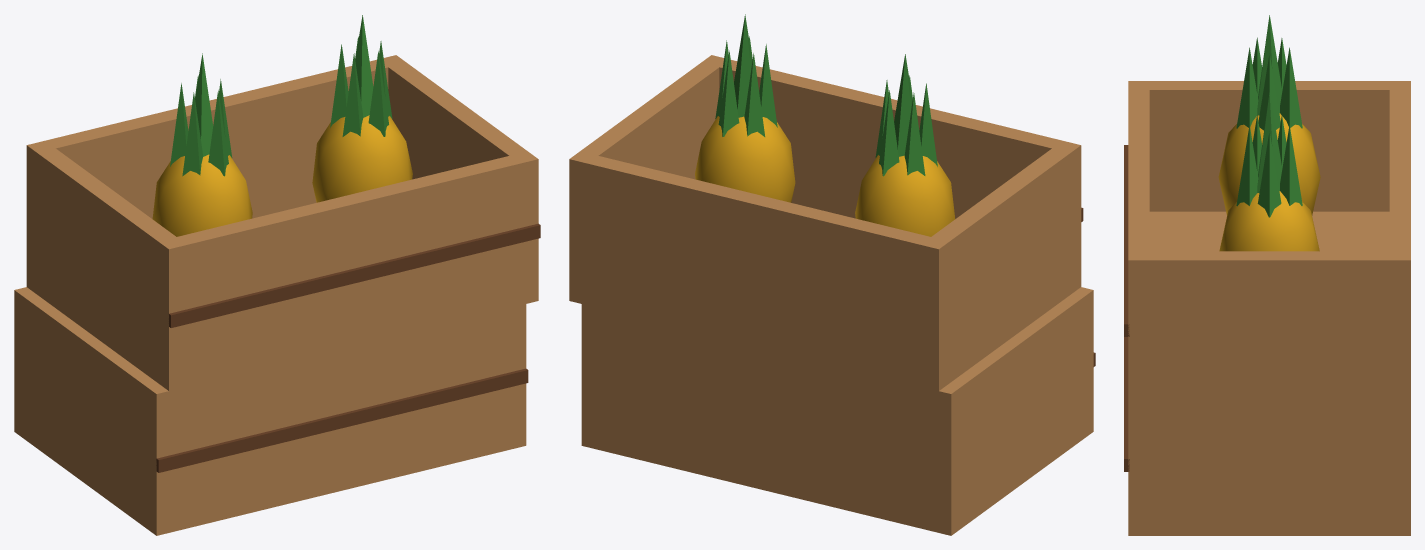
The model's file is decoracion-pila-cajas-pinas.glb.
3 views of the same model, side by side, from view 1: azimuth 30°, elevation 25°; view 2: azimuth 150°, elevation 25°; view 3: azimuth 270°, elevation 25° (orthographic).
Parts seen in each view (by area): view 1: pila_cajas_pinas_MaderaCajon, pila_cajas_pinas_FrutaPina, pila_cajas_pinas_MaderaOscura, pila_cajas_pinas_FrutaHoja; view 2: pila_cajas_pinas_MaderaCajon, pila_cajas_pinas_FrutaPina, pila_cajas_pinas_FrutaHoja; view 3: pila_cajas_pinas_MaderaCajon, pila_cajas_pinas_FrutaHoja, pila_cajas_pinas_FrutaPina, pila_cajas_pinas_MaderaOscura.
Part boxes in pixels (x1,y1,x2,y2): pila_cajas_pinas_MaderaCajon: (14, 55, 538, 535); pila_cajas_pinas_FrutaPina: (152, 115, 412, 236); pila_cajas_pinas_MaderaOscura: (156, 223, 540, 472); pila_cajas_pinas_FrutaHoja: (170, 15, 392, 176); pila_cajas_pinas_MaderaCajon: (569, 55, 1093, 535); pila_cajas_pinas_FrutaPina: (695, 116, 955, 236); pila_cajas_pinas_FrutaHoja: (715, 14, 937, 176); pila_cajas_pinas_MaderaCajon: (1128, 81, 1410, 535); pila_cajas_pinas_FrutaHoja: (1236, 15, 1302, 217); pila_cajas_pinas_FrutaPina: (1218, 113, 1320, 251); pila_cajas_pinas_MaderaOscura: (1124, 145, 1129, 471).
Size of the model in its own units: 0.62 by 0.624 by 0.406.
